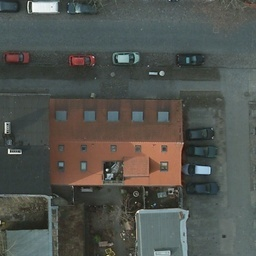car: (176, 52, 205, 68), (66, 1, 99, 14), (186, 182, 219, 195), (69, 53, 95, 69), (184, 143, 218, 155), (112, 51, 140, 65), (182, 128, 215, 139), (180, 163, 212, 174), (3, 51, 30, 64), (0, 0, 19, 13), (203, 0, 219, 4), (166, 0, 182, 3), (112, 0, 125, 1)
van: (26, 0, 60, 15)
